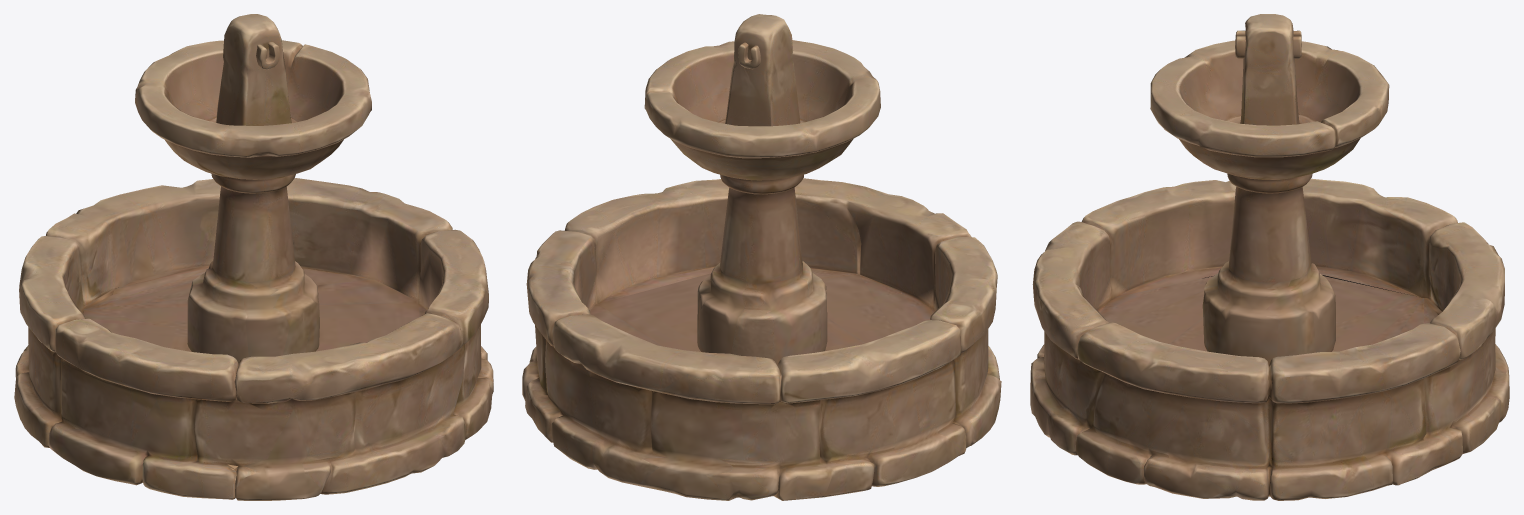
File: fountain.glb
3 renders of one model, left to right at view 1: azimuth 30°, elevation 25°; view 2: azimuth 150°, elevation 25°; view 3: azimuth 270°, elevation 25°, orthographic.
Visible parts, largest first — view 1: geometry_0; view 2: geometry_0; view 3: geometry_0.
Boxes of the visible parts, <box> form: geometry_0: <box>14,14,493,500</box>; geometry_0: <box>522,14,1001,500</box>; geometry_0: <box>1030,14,1509,500</box>.
Bounding box in the file's own units: 0.9556 × 0.8481 × 0.9546.
Materials: 1 (1 with a texture image).
